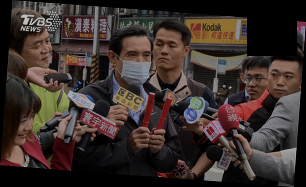with_mask: (120, 48, 152, 89)
without_mask: (152, 38, 185, 72), (267, 68, 302, 100), (27, 33, 53, 68), (14, 110, 34, 148), (245, 72, 267, 101)
